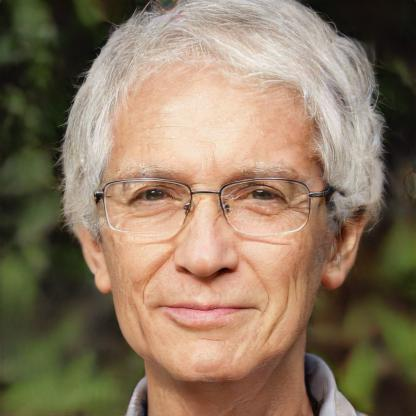glasses: (95, 176, 316, 238)
